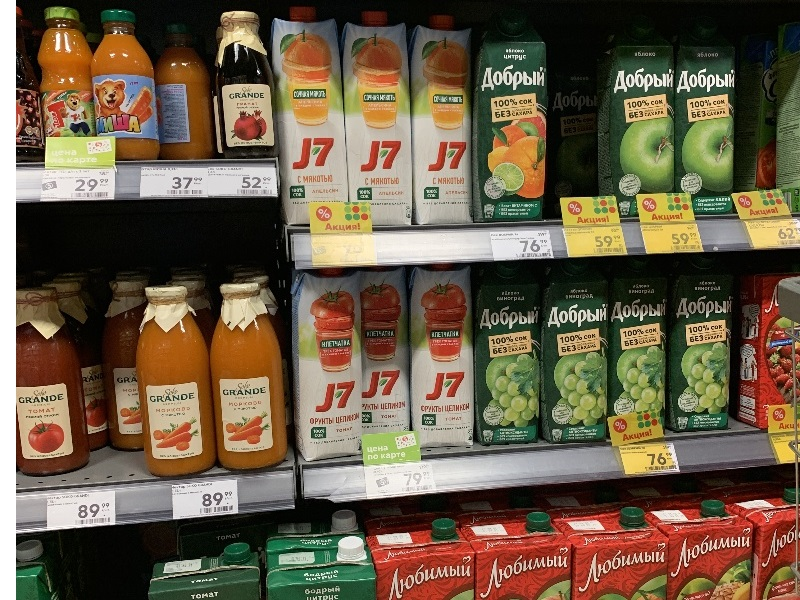juice: (259, 3, 356, 236), (468, 16, 562, 235), (343, 9, 427, 235), (399, 10, 483, 234), (290, 265, 369, 466), (532, 261, 615, 451), (467, 263, 548, 454), (402, 262, 480, 454), (661, 257, 742, 439), (593, 22, 676, 195), (673, 24, 740, 221)
